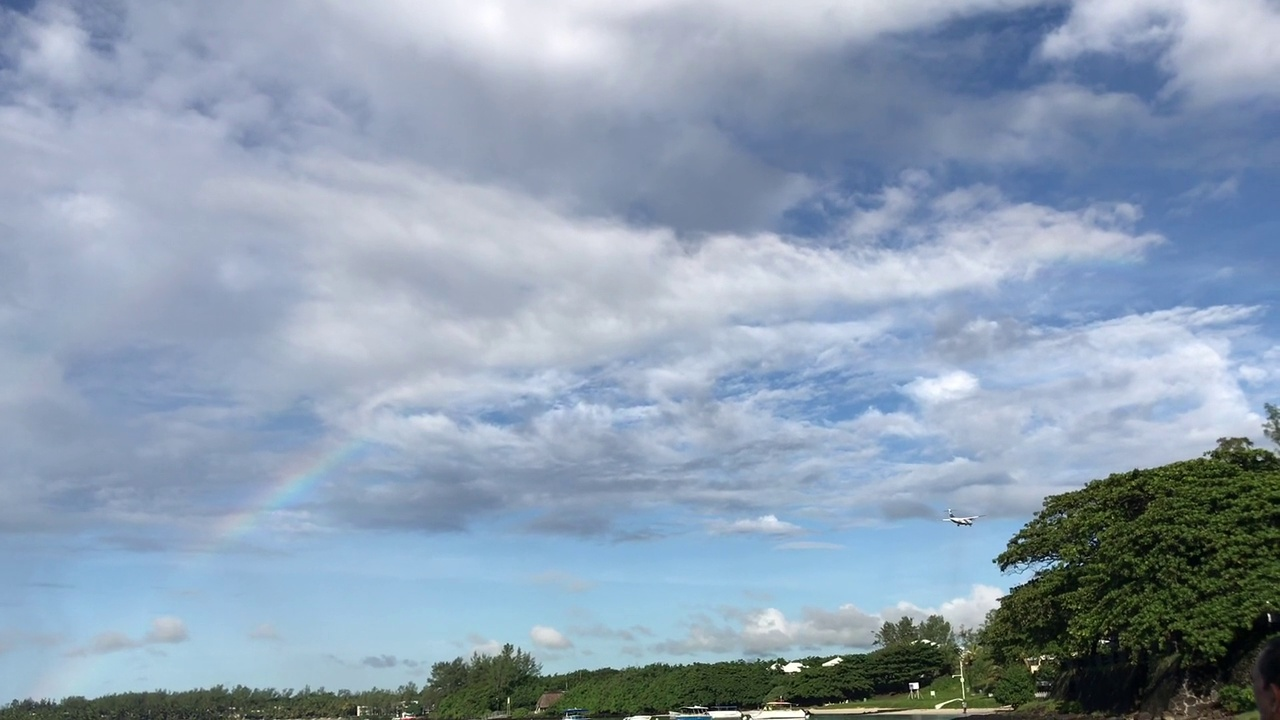plane: (940, 507, 984, 527)
